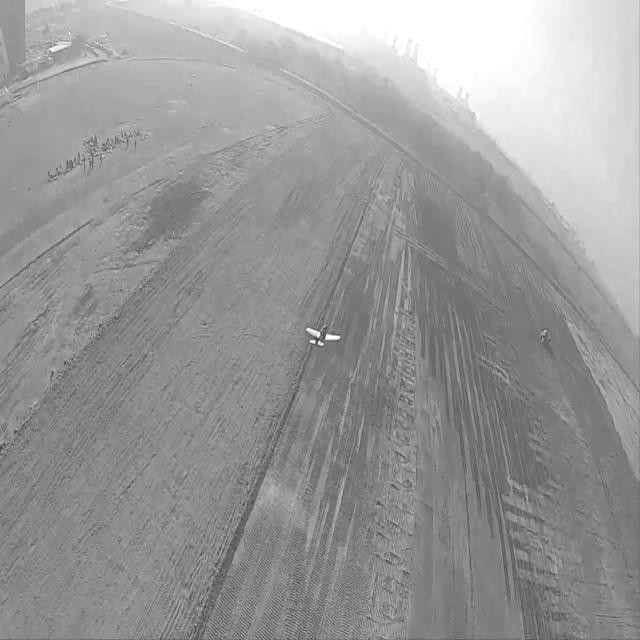iha: (300, 319, 344, 355)
